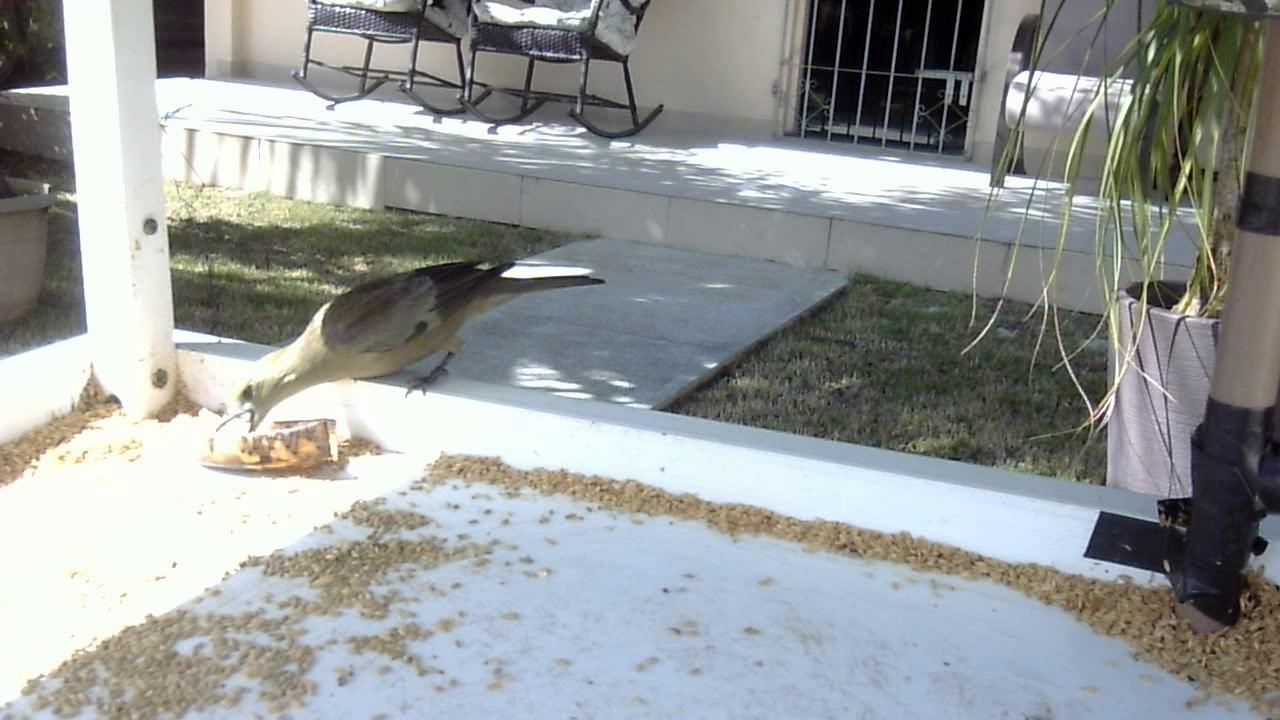sanhaco_do_coqueiro: (204, 247, 606, 453)
